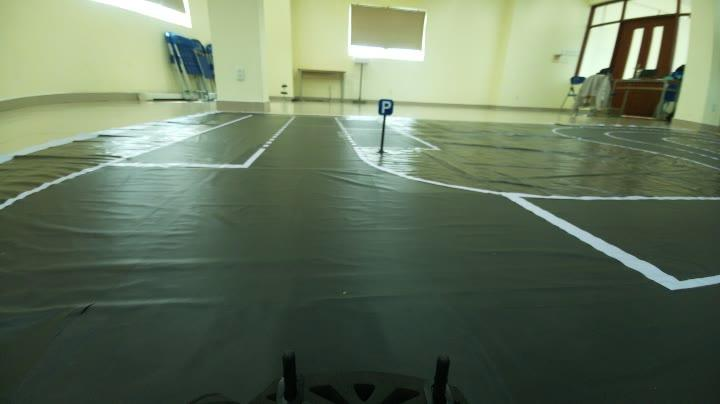parking: (368, 91, 398, 120)
